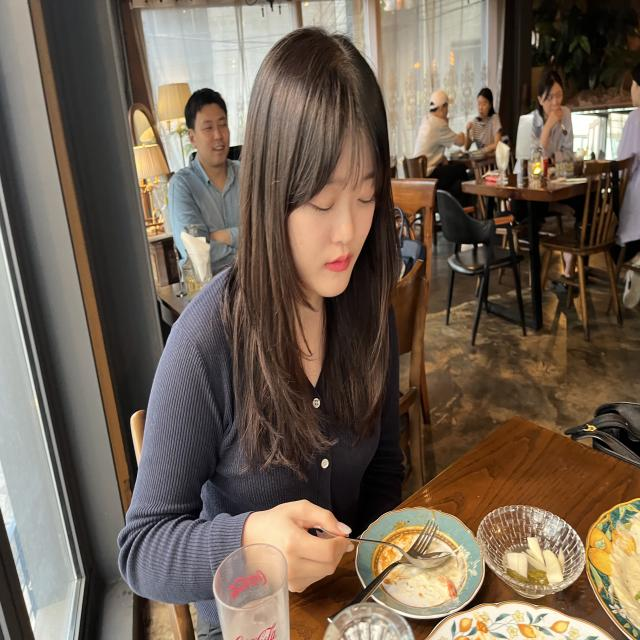eating-person: (110, 23, 432, 601)
